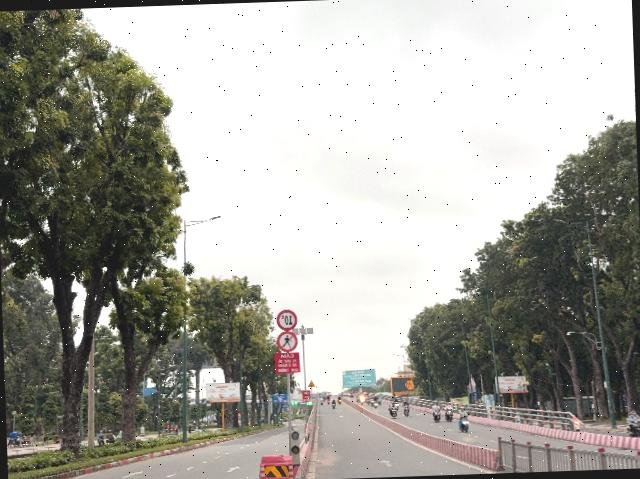cam-nguoi-di-bo: (277, 330, 298, 352)
han-che-trong-luong-xe: (276, 309, 298, 331)
